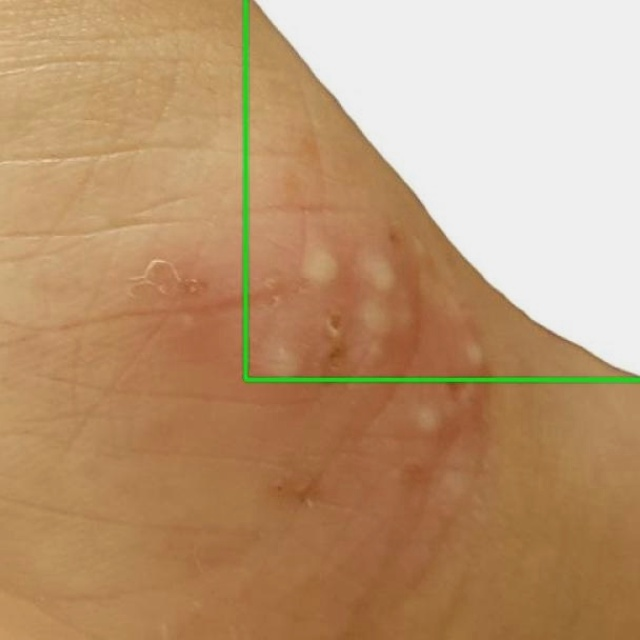Scabies: (245, 0, 639, 379)
